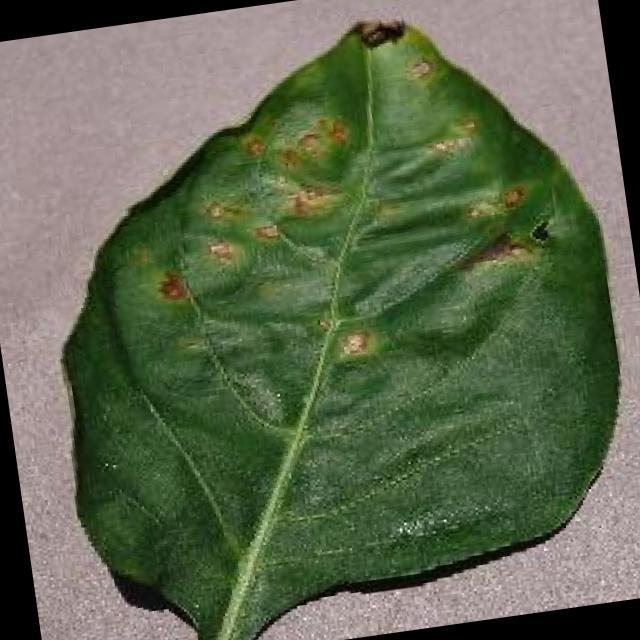Chilli_Bacterial_Spot: (9, 0, 640, 640), (124, 75, 570, 398), (130, 107, 376, 310), (276, 176, 349, 227), (418, 112, 484, 166), (352, 13, 411, 55), (148, 263, 194, 308), (199, 191, 253, 228), (332, 323, 374, 363), (200, 231, 240, 271), (316, 111, 354, 153), (232, 128, 270, 166), (399, 52, 438, 88), (246, 216, 287, 248), (523, 214, 557, 250), (496, 180, 530, 214)
